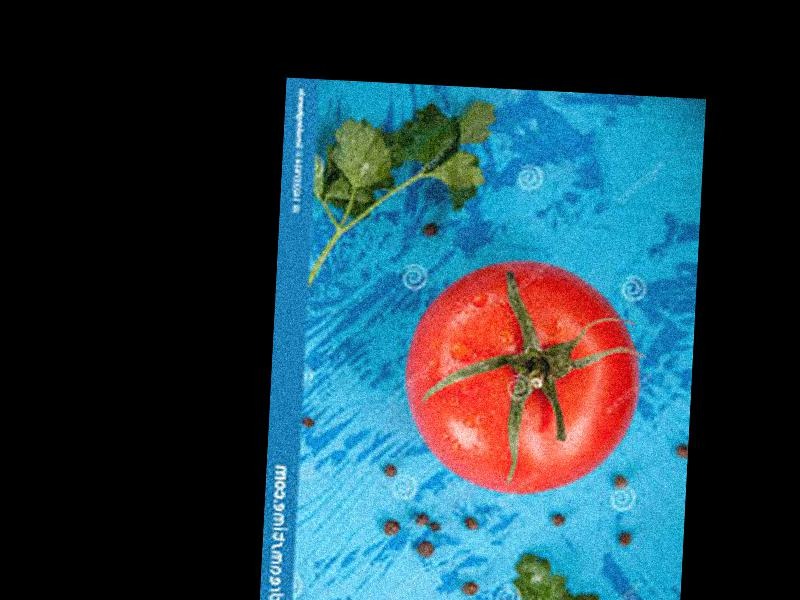Tomato: (400, 255, 644, 499)
